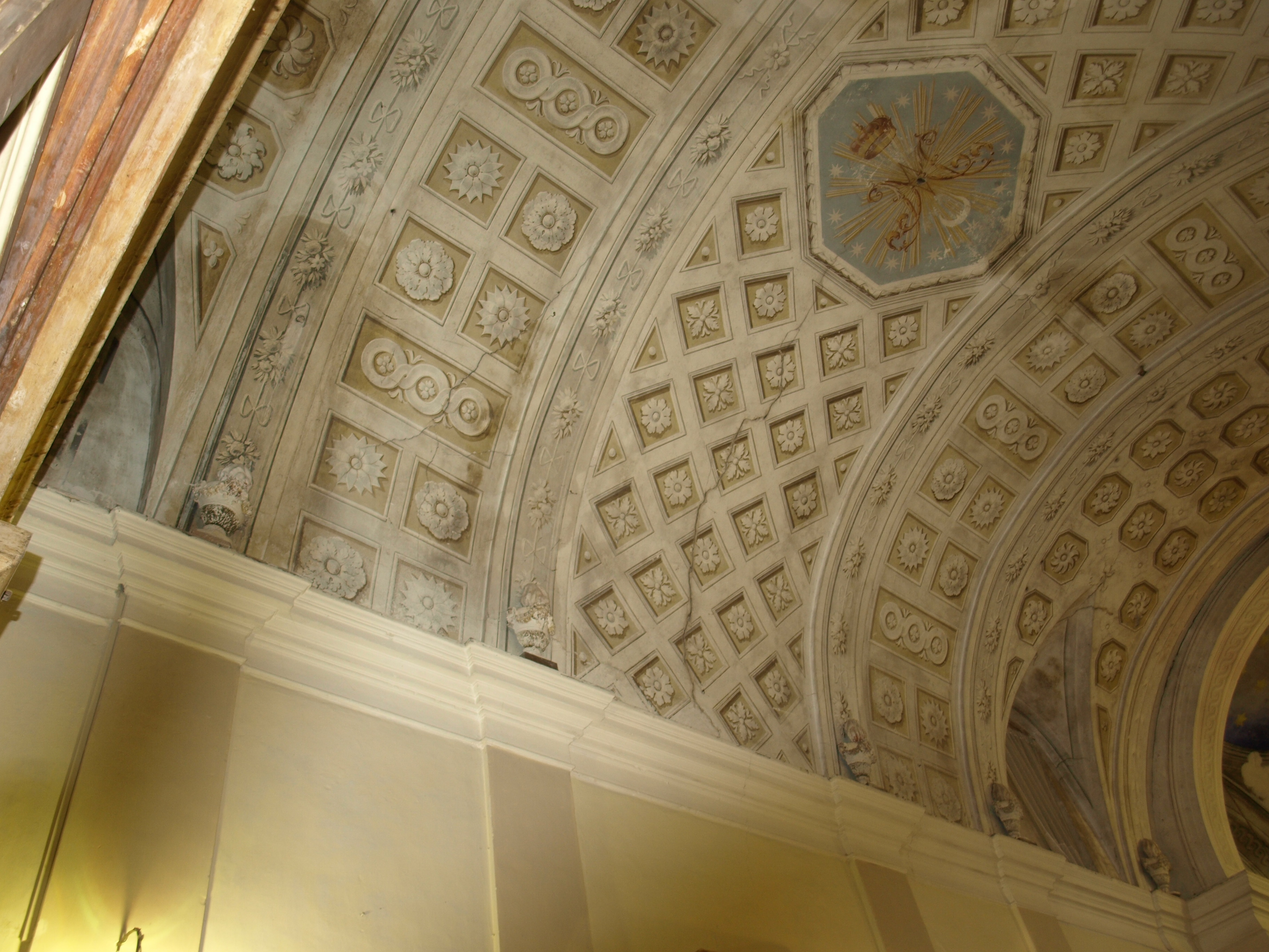Crack: (314, 73, 1037, 716)
